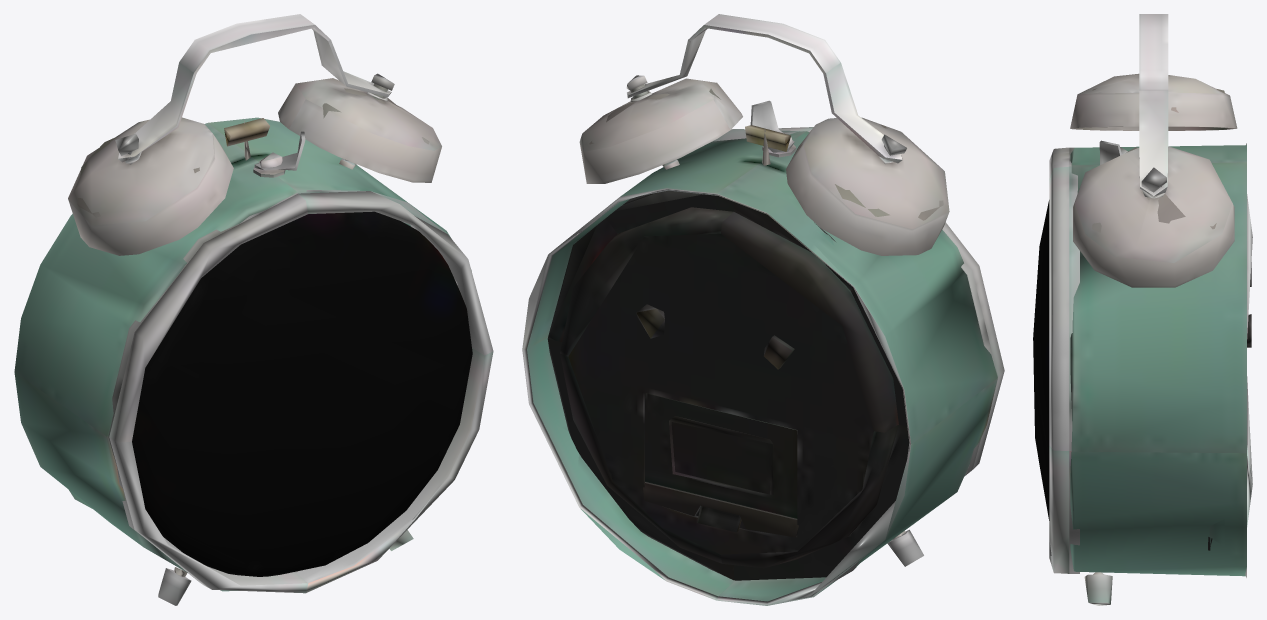
The model's file is cc0_alarm_clock.glb.
The picture shows the model from 3 angles, left to right: view 1: azimuth 30°, elevation 25°; view 2: azimuth 150°, elevation 25°; view 3: azimuth 270°, elevation 25°; orthographic projection. The views are drawn at different scales.
Visible parts, largest first — view 1: alarm_clock_01; view 2: alarm_clock_01; view 3: alarm_clock_01.
Part boxes in pixels (box(x1,y1,x2,y2)): alarm_clock_01: box(14, 14, 493, 605); alarm_clock_01: box(522, 14, 1004, 605); alarm_clock_01: box(1033, 14, 1252, 605).
Size of the model in its own units: 0.1312 by 0.1738 by 0.0659.
Materials: 2 (2 with a texture image).
